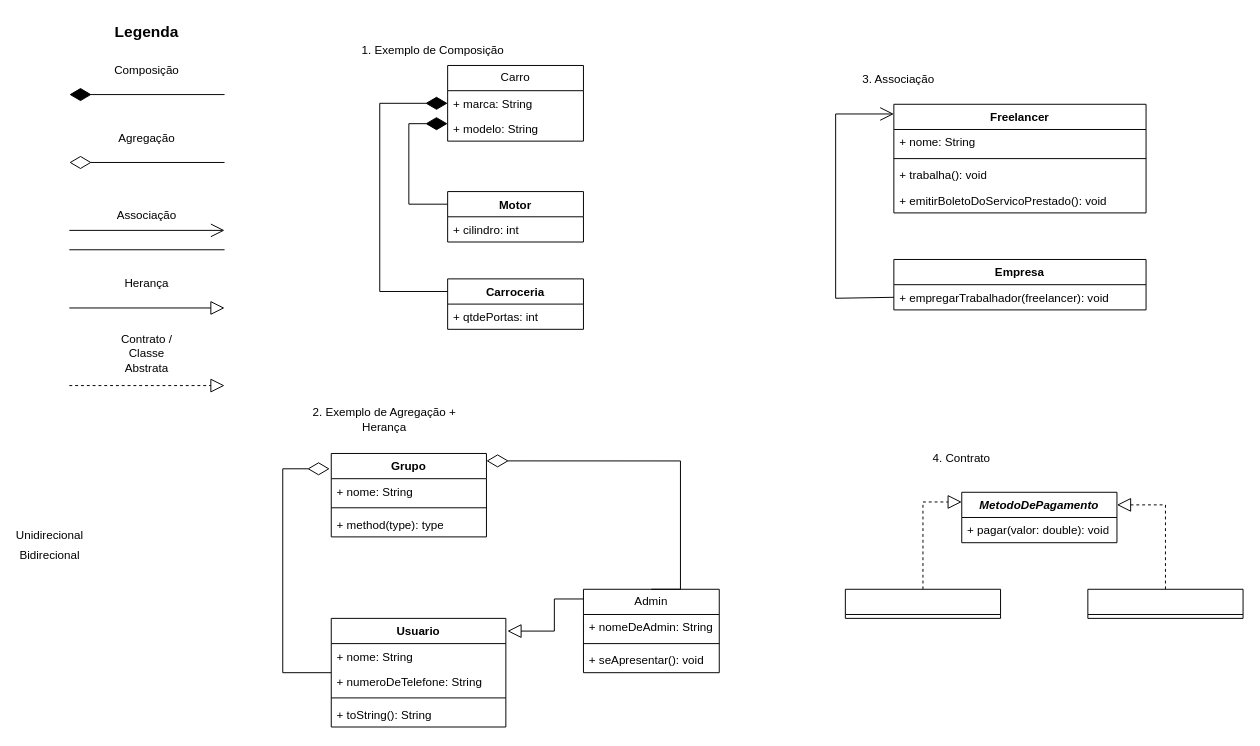
The diagram is 1260 pixels wide and 746 high, and some of its shapes have lost their labels. Each missing label, with the centre of its shape:
"CartaoDeDebito" goes at (x=1165, y=603).
"Pix" goes at (x=922, y=603).
